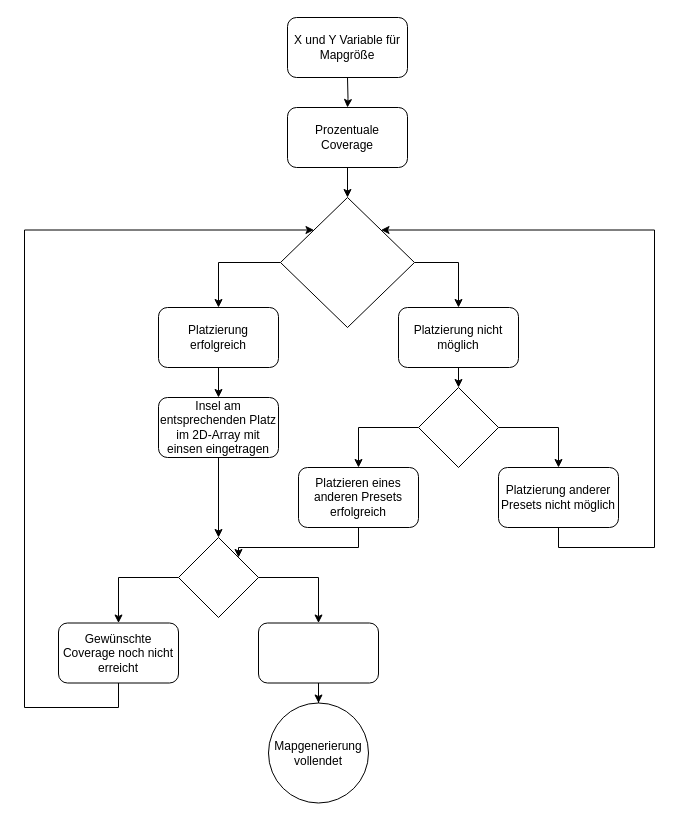
Image size: 680x821. Some labels were removed from this diagram. The box of each missing label's shape, as (x1, y1, x2, y2) in pixels:
Berechnung Coverage: (178, 536, 258, 618)
Coverage erreicht: (258, 622, 378, 683)
Testen anderer Presets: (418, 386, 498, 468)
Versuch der Inselplatzierung an zufälliger Position: (280, 196, 414, 328)
